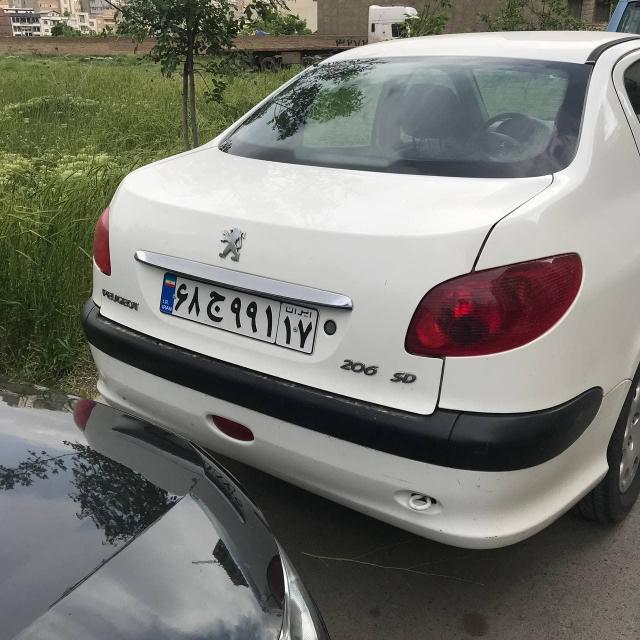Plates: (153, 271, 325, 356)
